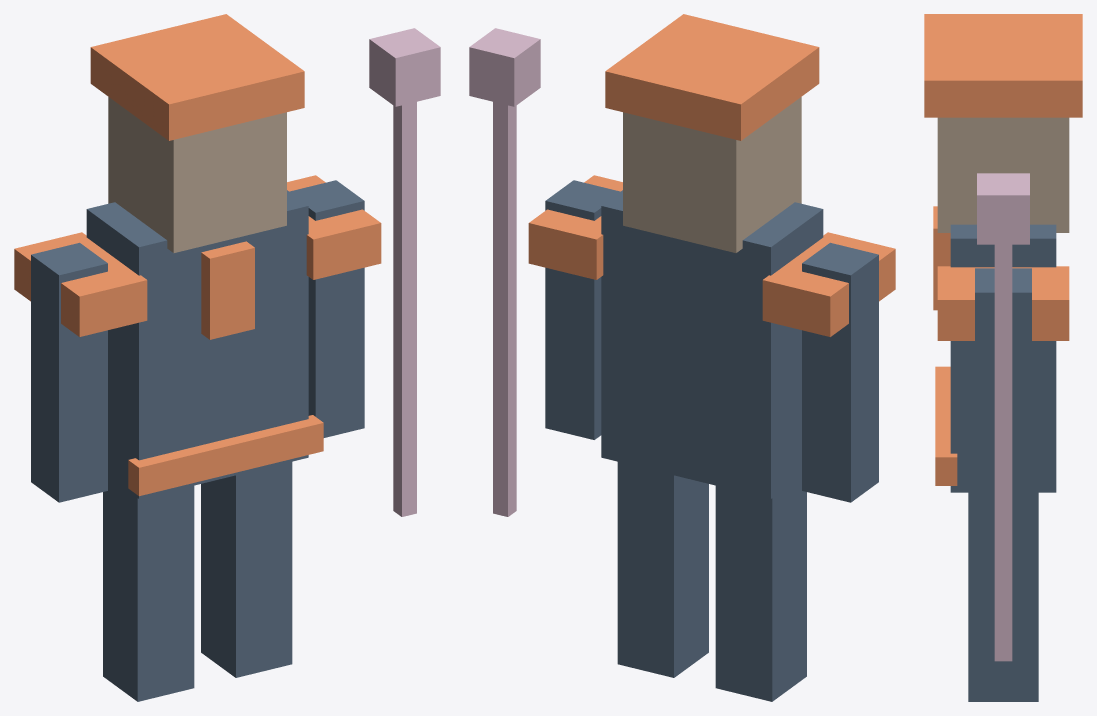
File: 04_tovin_signalborn_guide_under_central.glb
3 renders of one model, left to right at view 1: azimuth 30°, elevation 25°; view 2: azimuth 150°, elevation 25°; view 3: azimuth 270°, elevation 25°, orthographic.
Visible parts, largest first — view 1: Tovin Signalborn, Guide under Central; view 2: Tovin Signalborn, Guide under Central; view 3: Tovin Signalborn, Guide under Central.
Part boxes in pixels (x1,y1,x2,y2): Tovin Signalborn, Guide under Central: (14,14,440,701); Tovin Signalborn, Guide under Central: (469,14,895,701); Tovin Signalborn, Guide under Central: (924,14,1082,701).
Size of the model in its own units: 0.9764 by 1.49 by 0.3463.
